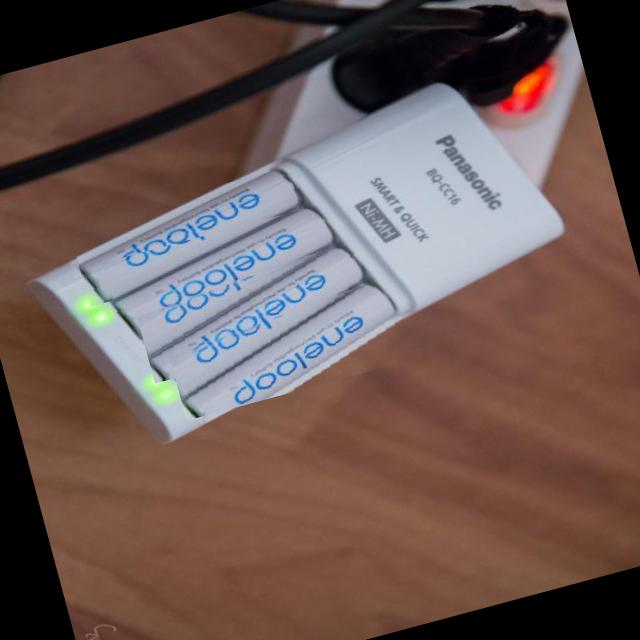Hazard: (162, 275, 410, 420), (131, 238, 378, 383), (67, 166, 314, 306), (100, 203, 344, 344)
